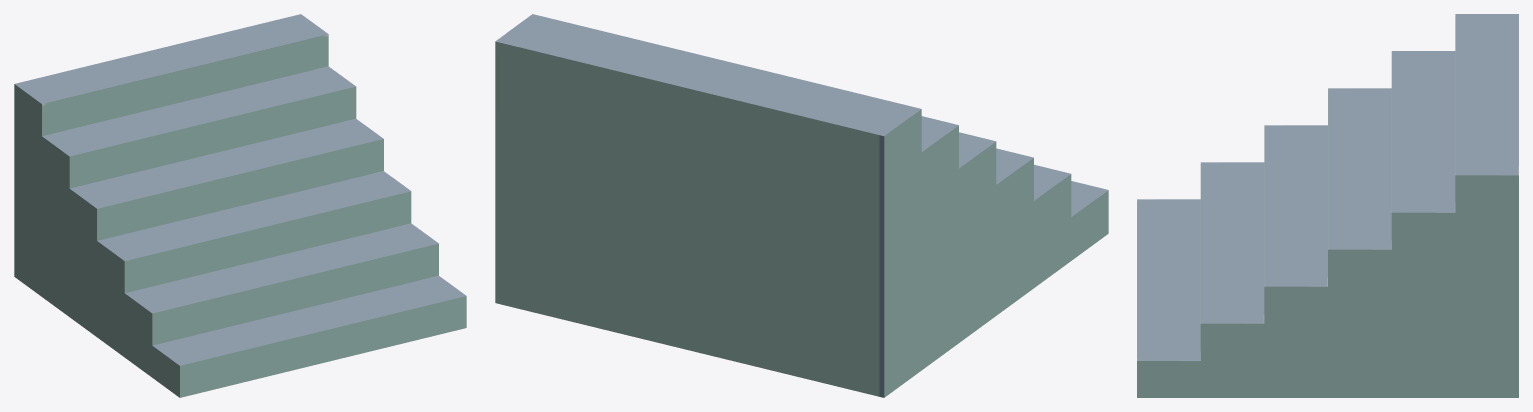
The model's file is StairsFlt2x2x1_5Bloc.gltf.
3 views of the same model, side by side, from view 1: azimuth 30°, elevation 25°; view 2: azimuth 150°, elevation 25°; view 3: azimuth 270°, elevation 25° (orthographic). The views are drawn at different scales.
Visible parts, largest first — view 1: StairsFlt2x2x1_5BlocShape; view 2: StairsFlt2x2x1_5BlocShape; view 3: StairsFlt2x2x1_5BlocShape.
Part boxes in pixels (x1,y1,x2,y2): StairsFlt2x2x1_5BlocShape: [14, 14, 466, 397]; StairsFlt2x2x1_5BlocShape: [495, 14, 1108, 397]; StairsFlt2x2x1_5BlocShape: [1137, 14, 1518, 397].
Size of the model in its own units: 200 by 129 by 200.
Materials: 1 (1 with a texture image).
